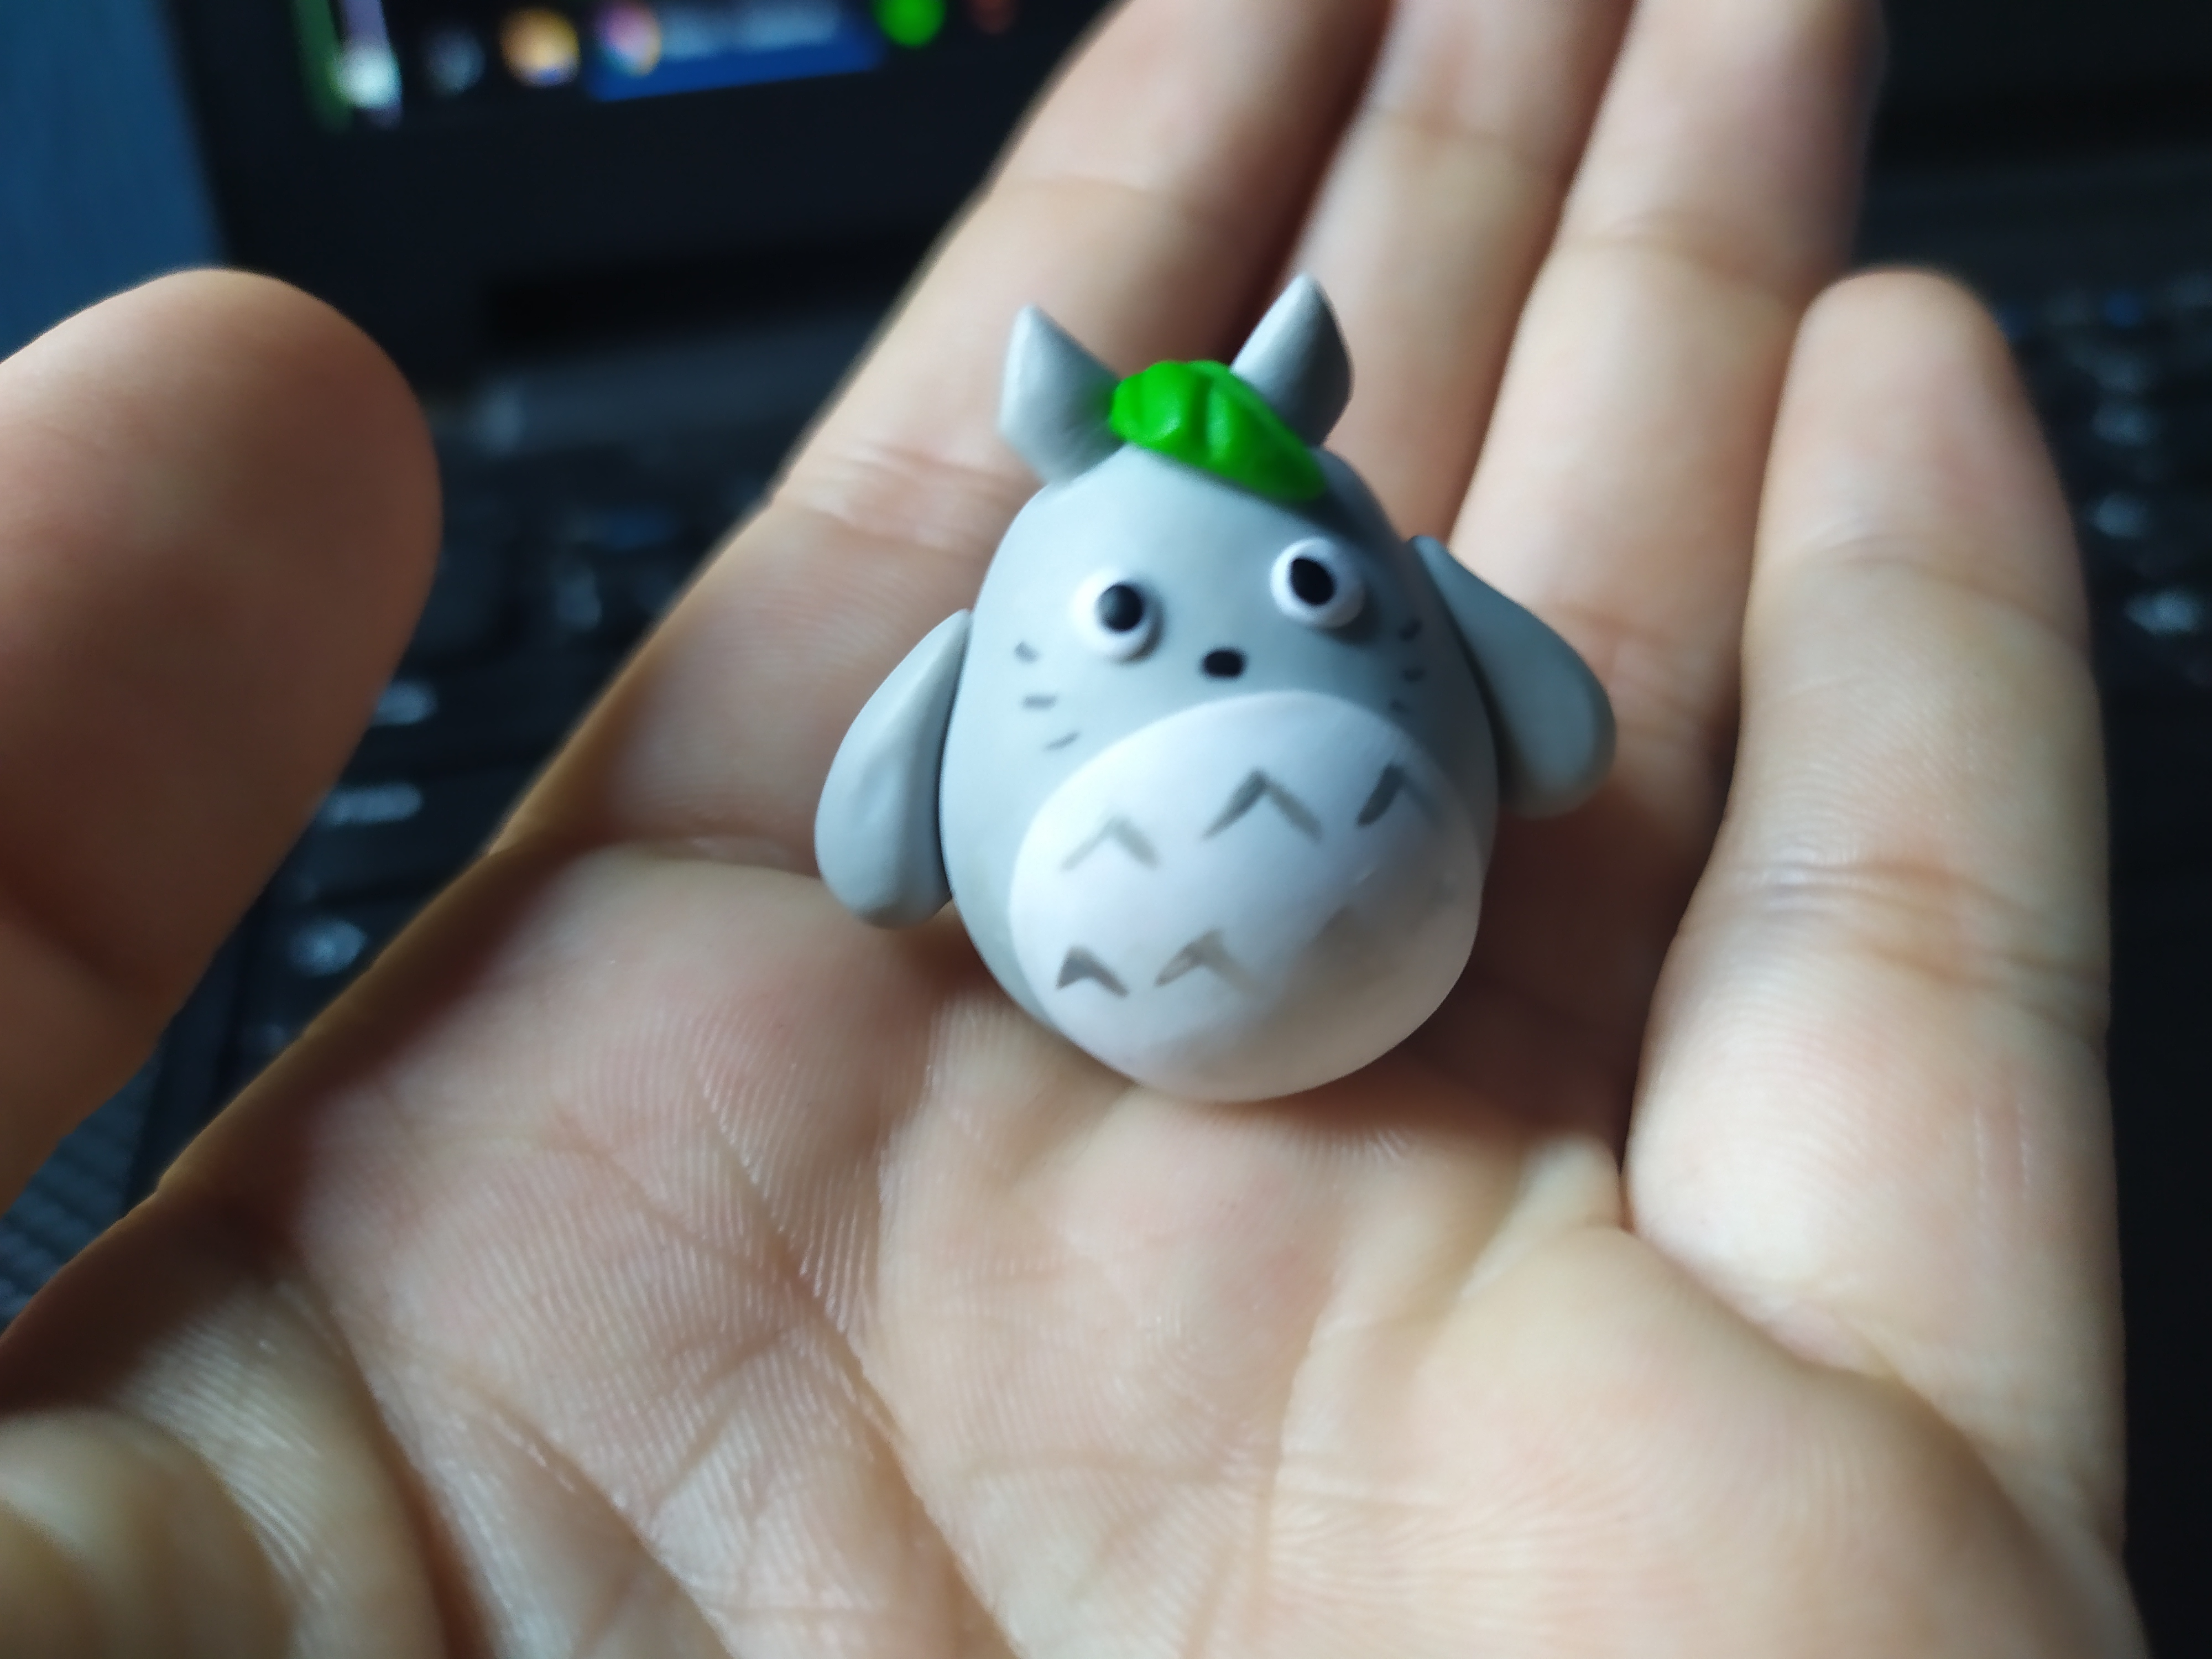Totoro: (792, 270, 1625, 1134)
